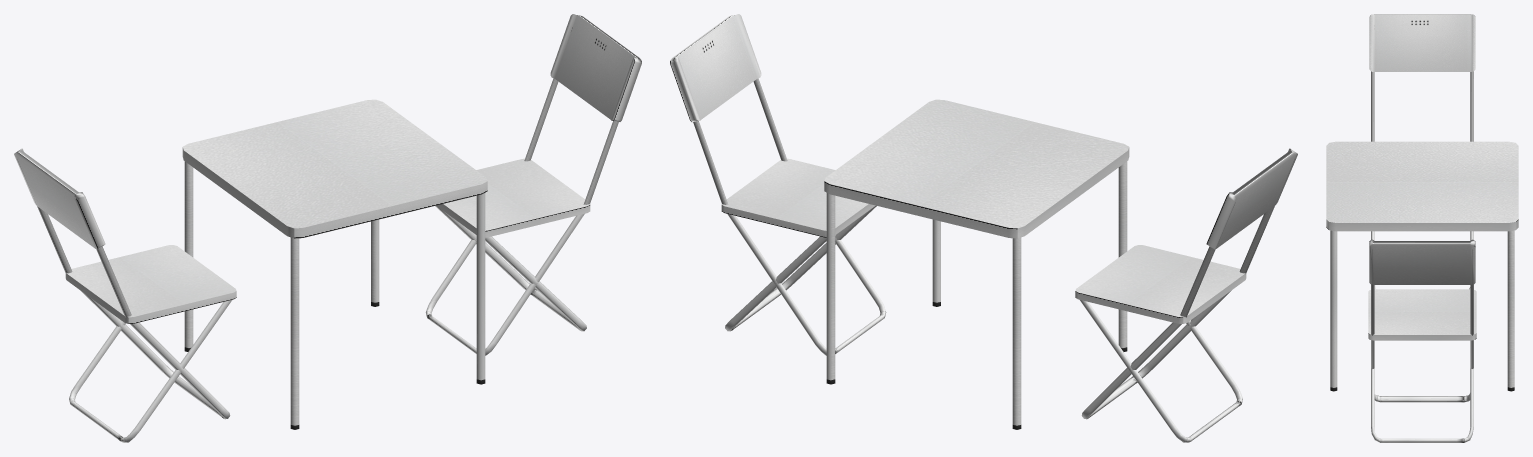
Rendered from chair_white.fbx.
3 renders of one model, left to right at view 1: azimuth 30°, elevation 25°; view 2: azimuth 150°, elevation 25°; view 3: azimuth 270°, elevation 25°, orthographic. The views are drawn at different scales.
Visible parts, largest first — view 1: Table, Chair02, Chair01; view 2: Table, Chair02, Chair01; view 3: Table, Chair02, Chair01.
Boxes of the visible parts, bbox=[...] form: Table: bbox=[182, 99, 487, 429]; Chair02: bbox=[425, 14, 641, 355]; Chair01: bbox=[14, 148, 236, 442]; Table: bbox=[824, 99, 1129, 429]; Chair02: bbox=[670, 14, 886, 355]; Chair01: bbox=[1075, 148, 1297, 442]; Table: bbox=[1326, 141, 1518, 391]; Chair02: bbox=[1368, 239, 1476, 442]; Chair01: bbox=[1369, 14, 1475, 289].
Bounding box in the file's own units: 6.67 × 2.99 × 2.34.
Materials: 1 (1 with a texture image).
